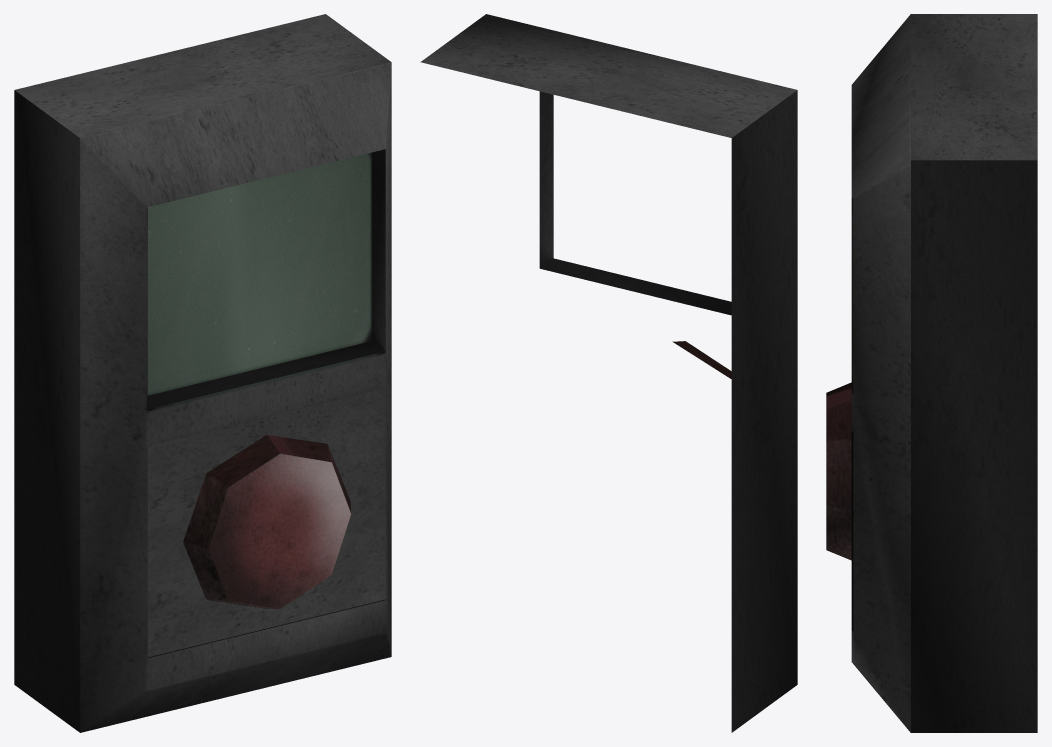
File: Button.glb
The picture shows the model from 3 angles, left to right: view 1: azimuth 30°, elevation 25°; view 2: azimuth 150°, elevation 25°; view 3: azimuth 270°, elevation 25°; orthographic projection. The views are drawn at different scales.
Visible parts, largest first — view 1: Scene_Root; view 2: Scene_Root; view 3: Scene_Root.
Part boxes in pixels (left/top/right/bottom): Scene_Root: left=14, top=14, right=391, bottom=732; Scene_Root: left=420, top=14, right=797, bottom=732; Scene_Root: left=826, top=14, right=1037, bottom=732.
Bounding box in the file's own units: 2.76 × 5.04 × 1.69.
Materials: 1 (1 with a texture image).
